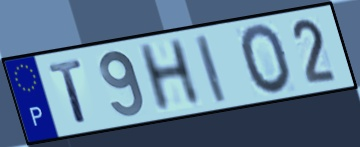2: (292, 17, 339, 86)
9: (98, 49, 147, 119)
H: (134, 36, 205, 116)
I: (192, 31, 230, 105)
O: (238, 22, 294, 98)
T: (46, 57, 90, 126)
